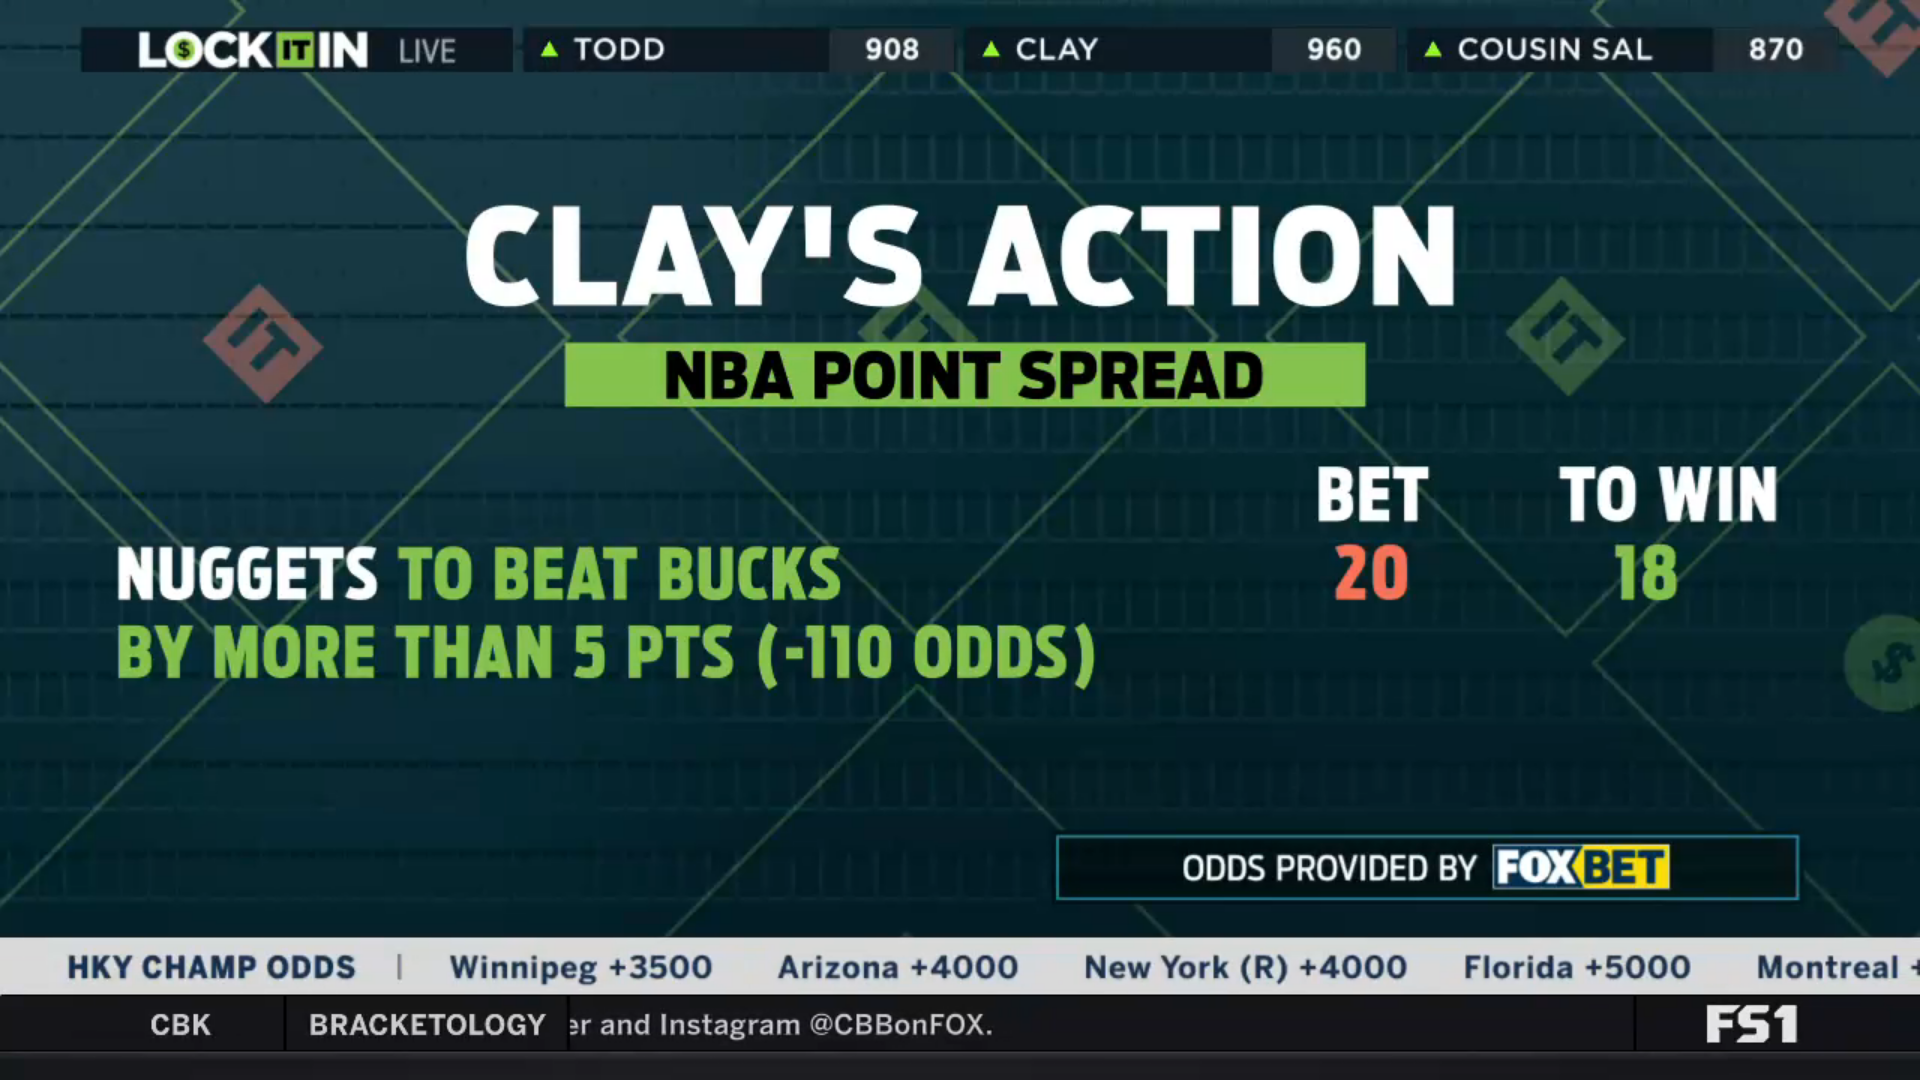Bet: (104, 535, 1108, 700)
Bet Amount: (1308, 454, 1435, 620)
Subtitle: (559, 334, 1375, 415)
Title: (454, 189, 1480, 320)
To Win: (1548, 454, 1785, 613)
Top Bar: (75, 17, 1845, 80)
